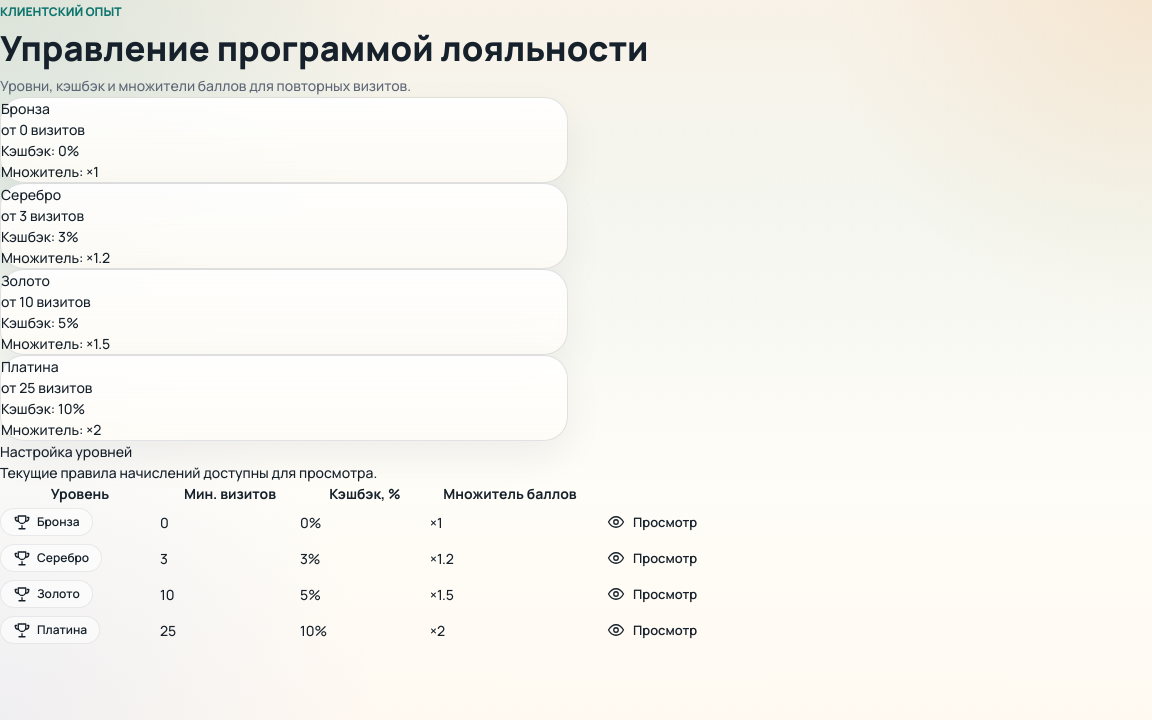
Test: LoyaltyManagement › opens view modal on click
The image size is (1152, 720).
Step 1. Click the 1st button "Просмотр" → (652, 522), box top-left (590, 504), bottom-right (714, 540)
(page scrolled)
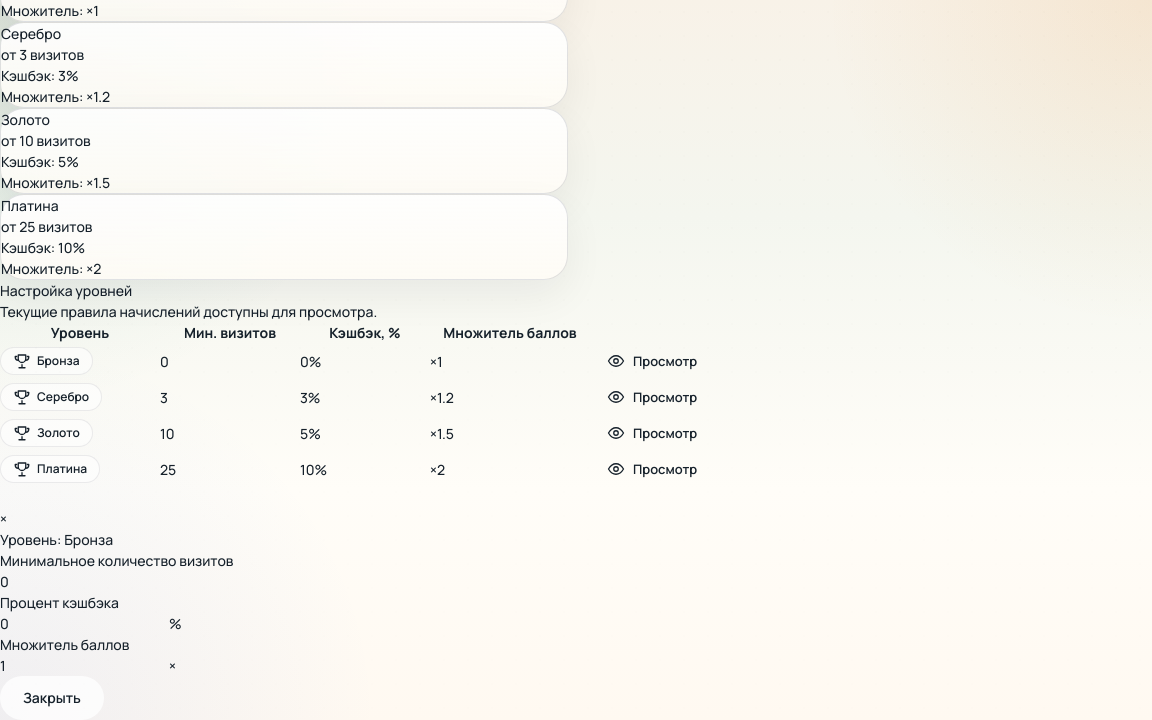
Check: the text "Уровень: Бронза" is shown, box top-left (0, 530), bottom-right (113, 549)
Check: the text "Минимальное количество визитов" is shown, box top-left (0, 551), bottom-right (234, 570)
Check: the text "Процент кэшбэка" is shown, box top-left (0, 593), bottom-right (119, 612)
